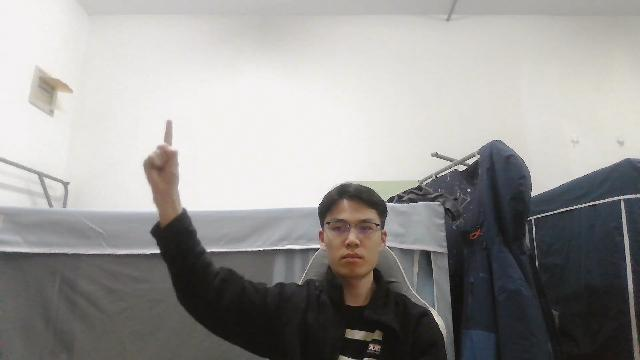one: (140, 114, 183, 200)
